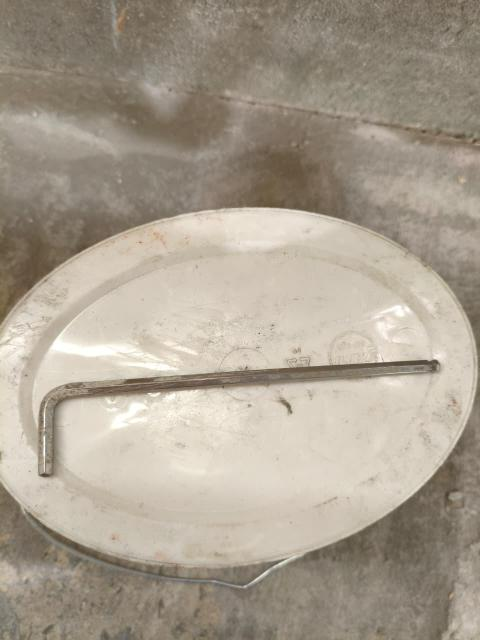Metal: (33, 358, 442, 478)
